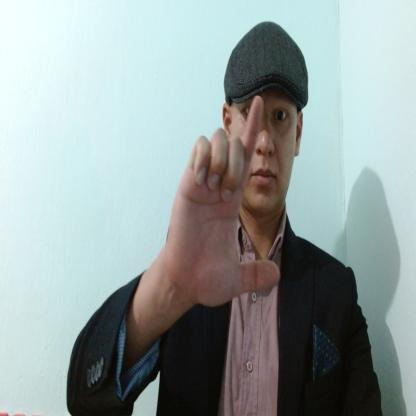L: (167, 94, 280, 307)
